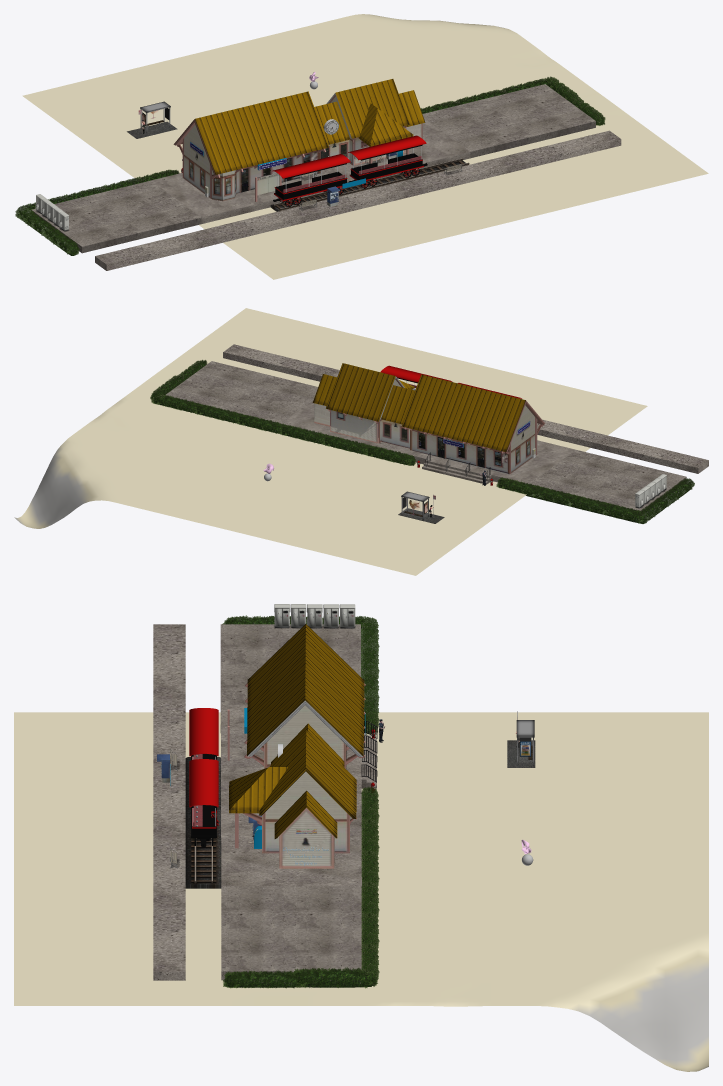
3 renders of one model, top to bottom at view 1: azimuth 30°, elevation 25°; view 2: azimuth 150°, elevation 25°; view 3: azimuth 270°, elevation 25°, orthographic. The views are drawn at different scales.
Visible parts, largest first — view 1: Terrain 4,4, Rail Road - Bahay City West (×4), rail road stat1#14, Train Passenger Car v1.2 (×2), rail road stat1#58, rail road stat1#65, rail road stat1#81, Hedge (×2), TRACKSTRAIGHT16 Rail, rail road stat1#85, rail road stat1#68, rail road stat1#40 (+3 smaller); view 2: Terrain 4,4, Rail Road - Bahay City West (×4), rail road stat1#14, Hedge (×10), rail road stat1#58, rail road stat1#72, rail road stat1#65, rail road stat1#70, rail road stat1#85, rail road stat1#77, prim0-mesh, rail road stat1#40 (+1 smaller); view 3: Terrain 4,4, Rail Road - Bahay City West (×4), rail road stat1#14, rail road stat1#58, Train Passenger Car v1.2 (×2), Hedge (×2), rail road stat1#34, rail road stat1#63, TRACKSTRAIGHT16 Rail, rail road stat1#74, rail road stat1#40.
Boxes of the visible parts, left/top/right/bottom form: Terrain 4,4: left=22, top=14, right=708, bottom=279; Rail Road - Bahay City West (×4): left=31, top=84, right=621, bottom=270; rail road stat1#14: left=195, top=91, right=329, bottom=174; Train Passenger Car v1.2 (×2): left=272, top=135, right=427, bottom=206; rail road stat1#58: left=335, top=79, right=413, bottom=146; rail road stat1#65: left=182, top=124, right=211, bottom=198; rail road stat1#81: left=236, top=150, right=320, bottom=193; Hedge (×2): left=16, top=205, right=79, bottom=255; TRACKSTRAIGHT16 Rail: left=352, top=158, right=469, bottom=191; rail road stat1#85: left=314, top=101, right=350, bottom=144; rail road stat1#68: left=212, top=170, right=236, bottom=201; rail road stat1#40: left=399, top=90, right=425, bottom=126; Terrain 4,4: left=14, top=308, right=647, bottom=575; Rail Road - Bahay City West (×4): left=165, top=344, right=708, bottom=514; rail road stat1#14: left=401, top=374, right=525, bottom=451; Hedge (×10): left=151, top=394, right=647, bottom=523; rail road stat1#58: left=326, top=363, right=414, bottom=421; rail road stat1#72: left=410, top=429, right=509, bottom=474; rail road stat1#65: left=509, top=405, right=537, bottom=473; rail road stat1#70: left=330, top=410, right=378, bottom=443; rail road stat1#85: left=381, top=385, right=414, bottom=424; rail road stat1#77: left=381, top=419, right=409, bottom=448; prim0-mesh: left=401, top=491, right=429, bottom=520; rail road stat1#40: left=312, top=374, right=336, bottom=405; Terrain 4,4: left=14, top=712, right=708, bottom=1071; Rail Road - Bahay City West (×4): left=153, top=624, right=376, bottom=980; rail road stat1#14: left=247, top=624, right=364, bottom=756; rail road stat1#58: left=229, top=730, right=356, bottom=818; Train Passenger Car v1.2 (×2): left=189, top=708, right=218, bottom=847; Hedge (×2): left=223, top=967, right=376, bottom=988; rail road stat1#34: left=279, top=808, right=334, bottom=868; rail road stat1#63: left=262, top=771, right=349, bottom=853; TRACKSTRAIGHT16 Rail: left=185, top=810, right=221, bottom=888; rail road stat1#74: left=264, top=705, right=345, bottom=768; rail road stat1#40: left=274, top=790, right=337, bottom=838.
Size of the model in its own units: 83.02 by 18.1 by 64.
89 materials, 73 textured.
